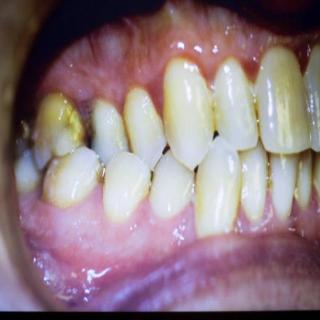Gum Swelling: (53, 184, 121, 244), (138, 41, 181, 117), (43, 75, 126, 111), (235, 194, 282, 235), (120, 198, 167, 238), (181, 40, 231, 77), (168, 203, 197, 242)
calculus: (292, 162, 306, 205), (310, 157, 320, 199)
cavities: (44, 92, 86, 144), (87, 107, 105, 151)
maligned: (201, 137, 240, 231), (214, 63, 258, 143), (122, 74, 158, 161), (104, 144, 144, 220), (86, 86, 118, 158), (271, 146, 301, 218)
plaque: (248, 92, 266, 139), (199, 94, 221, 130)
stains: (44, 159, 106, 201), (117, 108, 141, 156), (161, 84, 179, 139), (190, 174, 210, 222), (290, 154, 304, 204), (262, 157, 276, 205)
